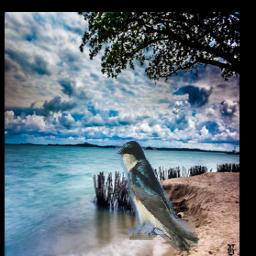Swallow: (116, 139, 198, 251)
